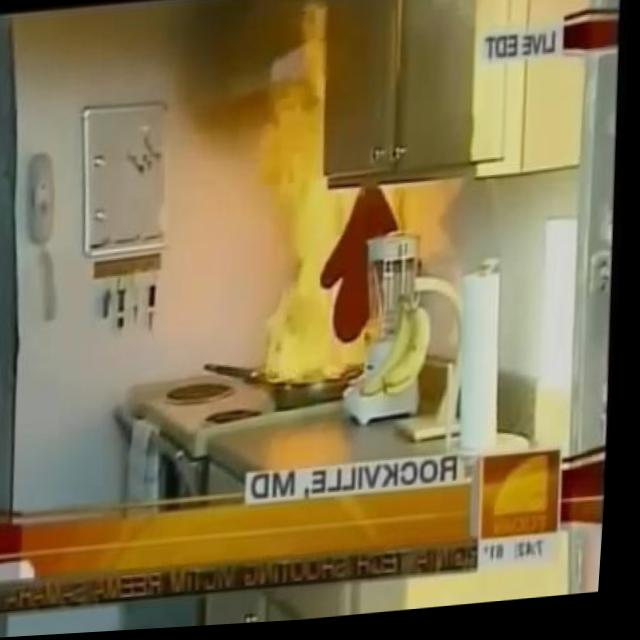fire: (261, 174, 374, 389)
